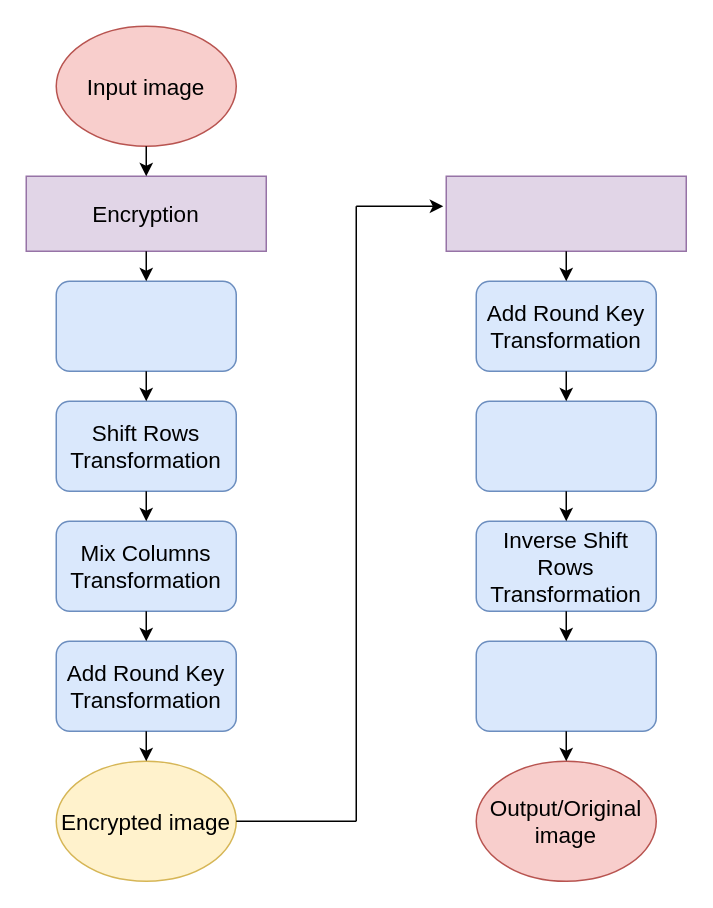
Image size: 713x908. Some labels were removed from this diagram. Each missing label, with the centre of its shape:
"Decryption" belongs at (x=565, y=213).
"Inverse Mix Columns Transformation" belongs at (x=565, y=445).
"Inverse Substitute Byte Transformation" belongs at (x=565, y=685).
"Substitute Byte Transformation" belongs at (x=145, y=325).
